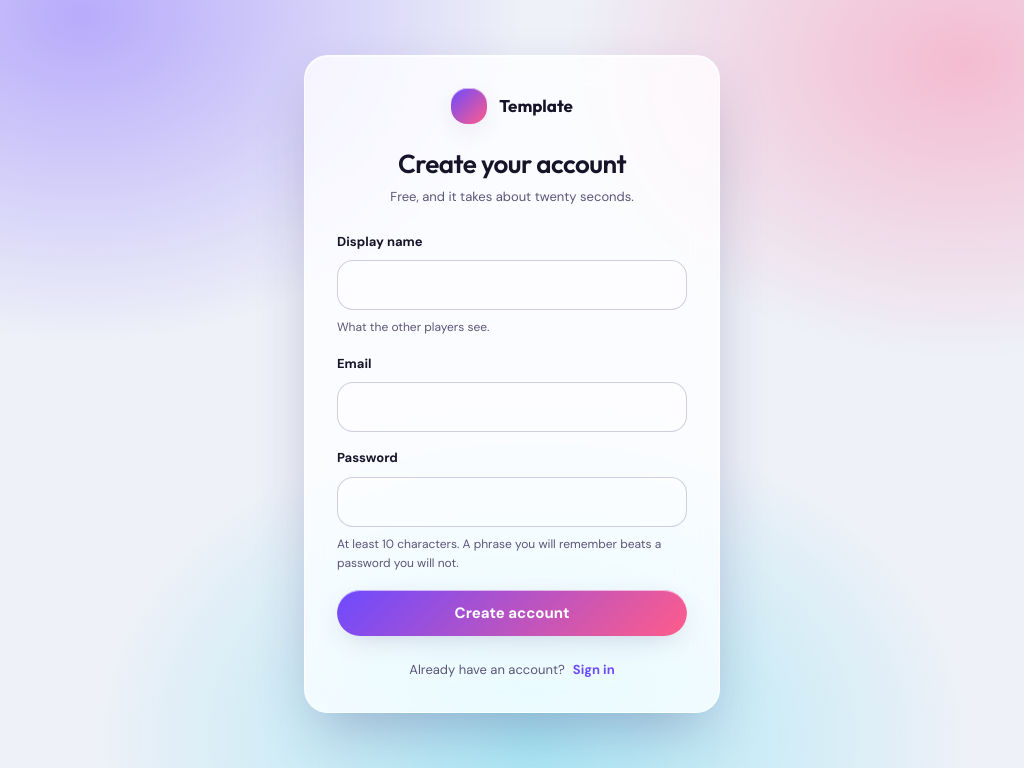
Test case: client-side validation › ★ rejects a short password using the SERVER’s own message key
Type "Mehrang" into the field labelled "Display name".
click(512, 285); type("Mehrang")  # box [337,260,687,310]
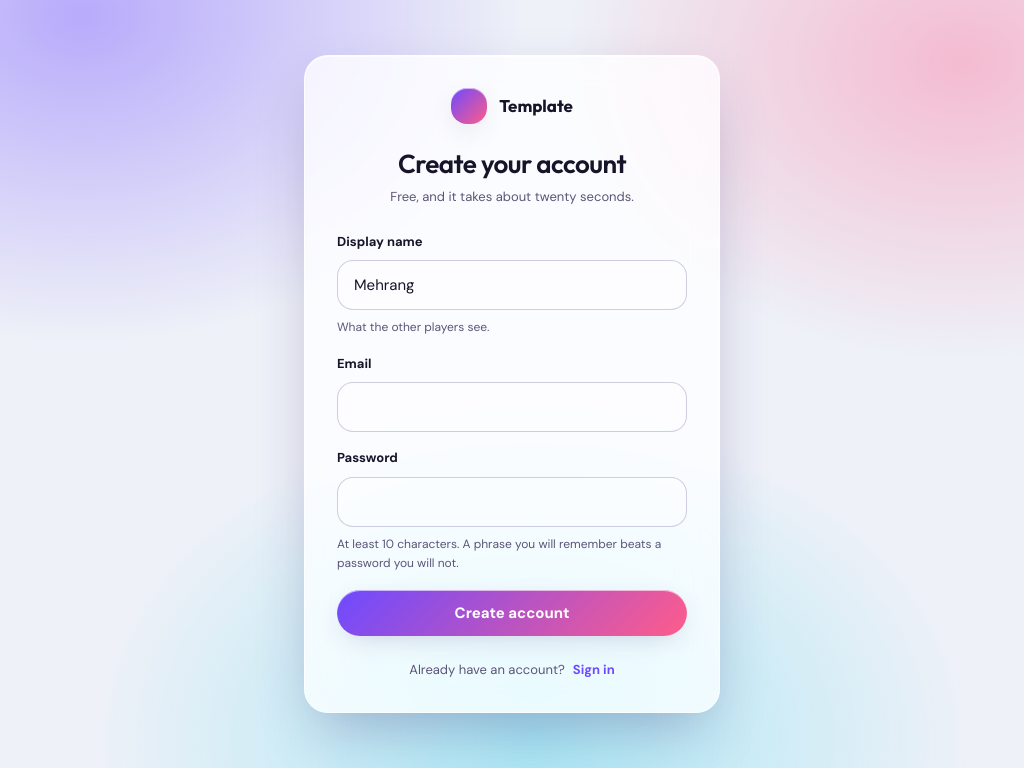
Type "me@test.dev" into the field labelled "Email".
click(512, 407); type("me@test.dev")  # box [337,382,687,432]
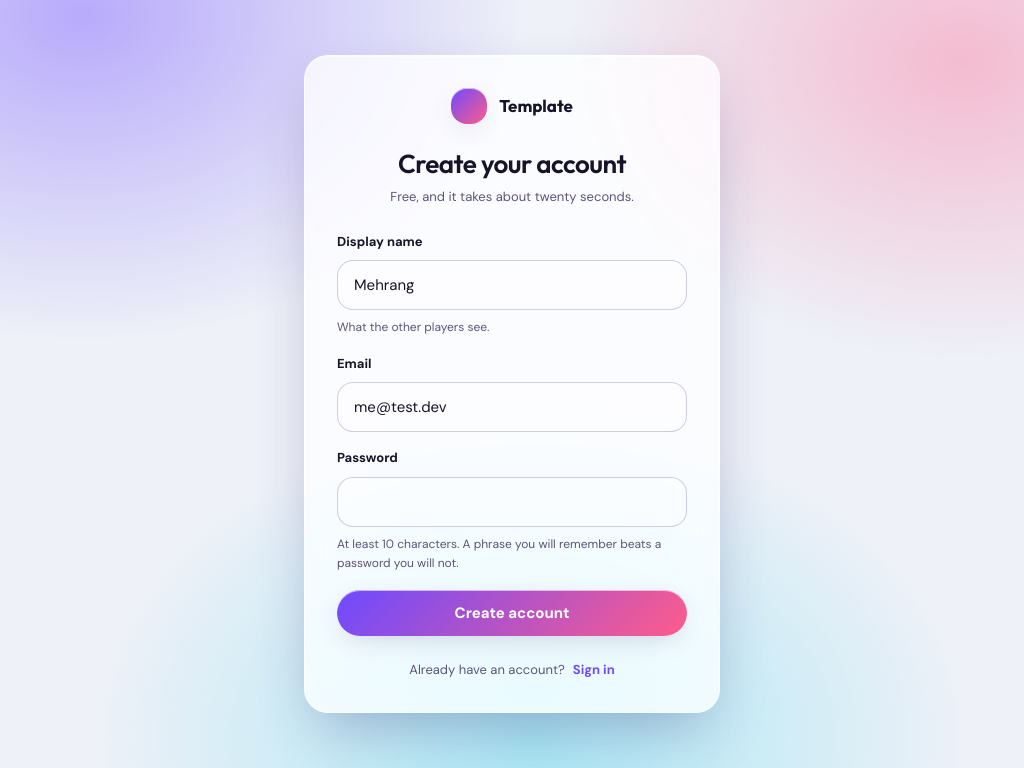
Type "short" into the password field labelled "Password".
click(512, 502); type("short")  # box [337,477,687,527]
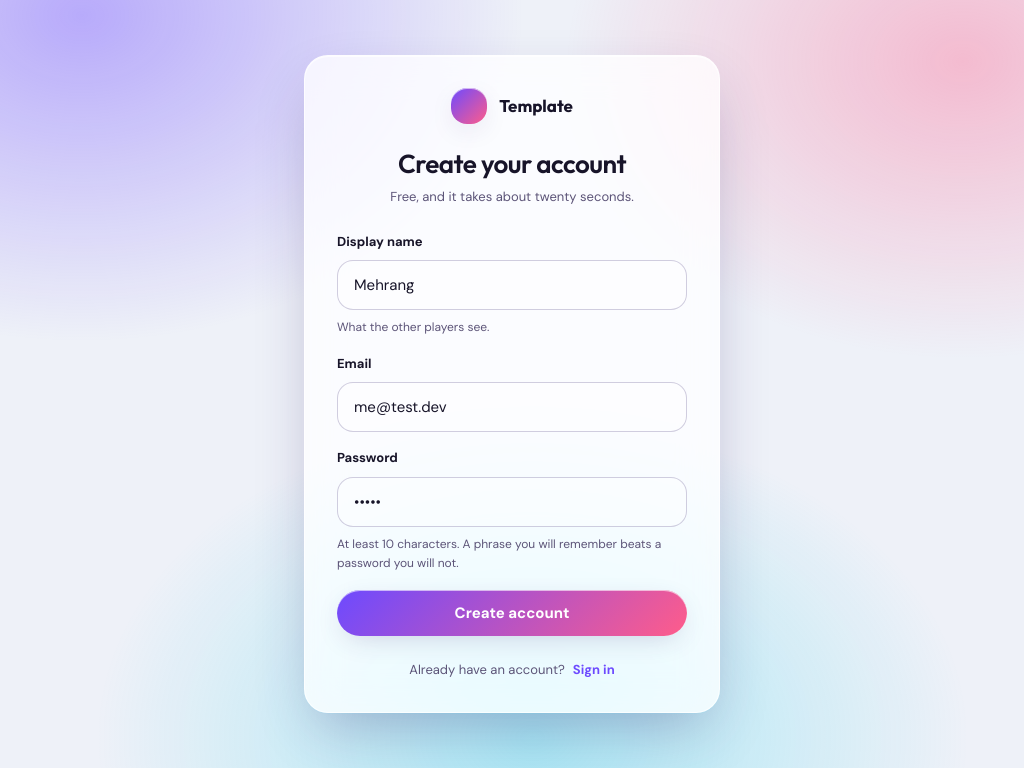
Submit the form from the button "Create account", box [337,590,687,636]
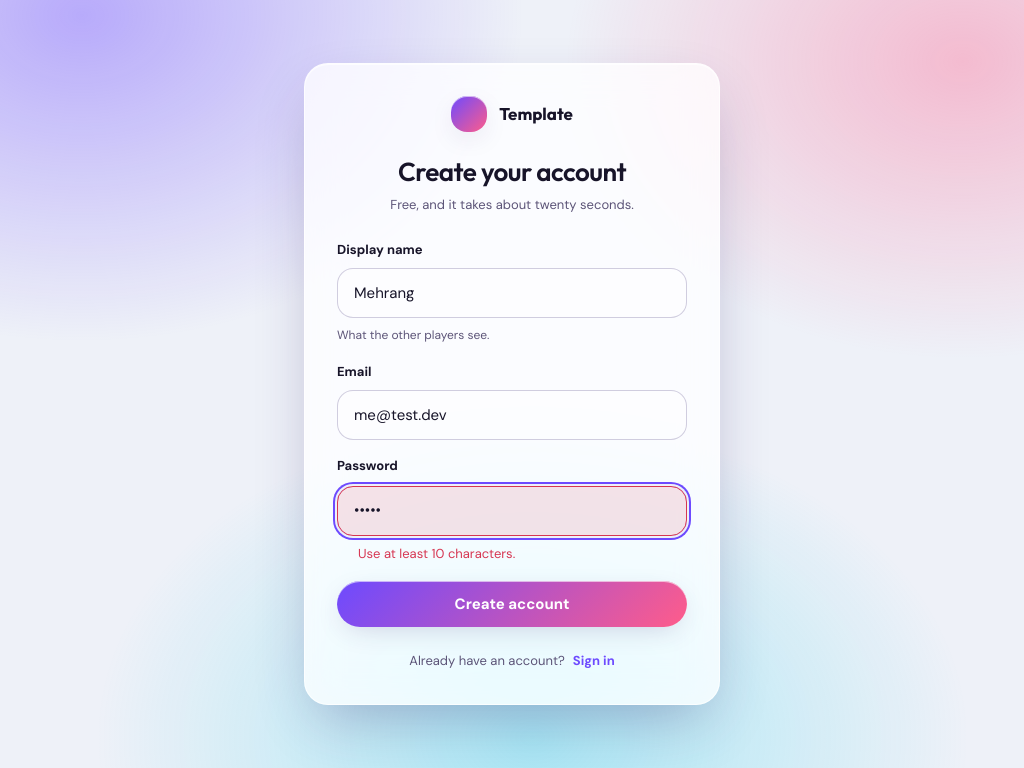
Result: the text "Use at least 10 characters." is shown at [358,544,515,565]
